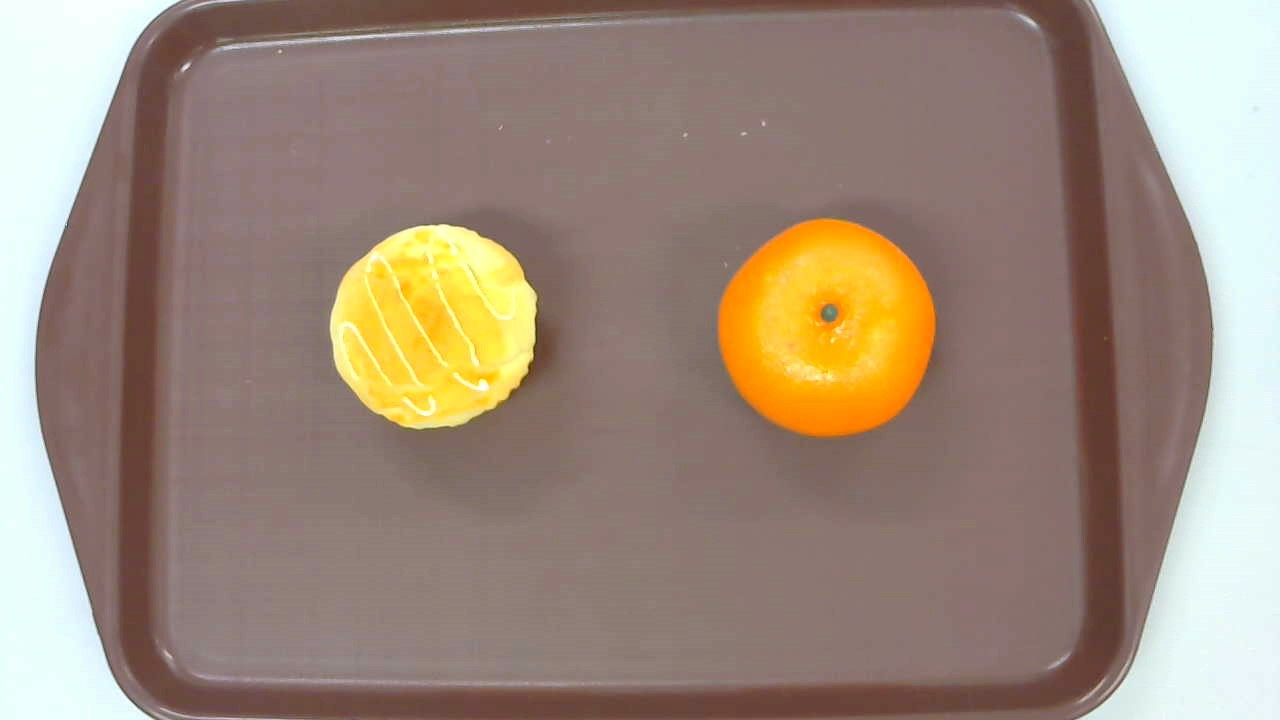cupcake: (328, 223, 538, 431)
orange: (717, 218, 935, 438)
